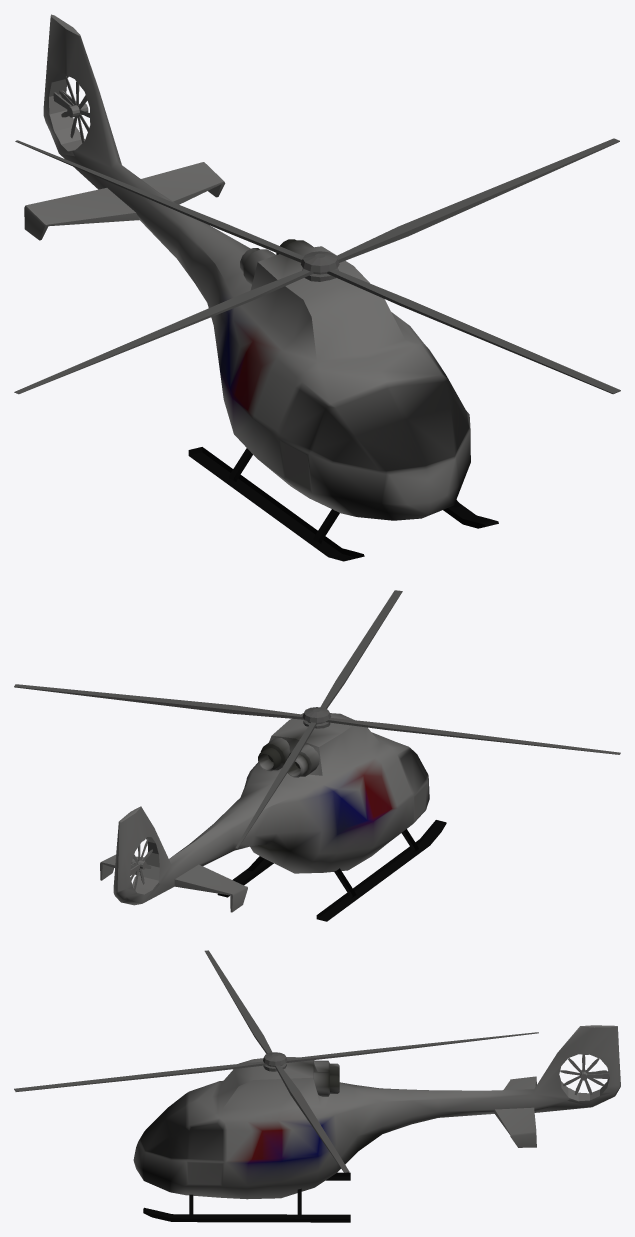
File: Lowpoly_Helicopter-transformed.glb
3 views of the same model, one above another, from view 1: azimuth 30°, elevation 25°; view 2: azimuth 150°, elevation 25°; view 3: azimuth 270°, elevation 25° (orthographic). The views are drawn at different scales.
Visible parts, largest first — view 1: Copter, Propeller_2, Legs, Cylinder; view 2: Copter, Propeller_2, Legs, Cylinder; view 3: Copter, Propeller_2, Legs, Propeller, Cylinder.
Part boxes in pixels (box(x1,y1,x2,y2)): Copter: box(24, 14, 470, 520); Propeller_2: box(14, 138, 620, 394); Legs: box(188, 447, 498, 561); Cylinder: box(49, 73, 85, 151); Copter: box(100, 713, 429, 912); Propeller_2: box(14, 590, 620, 848); Legs: box(217, 820, 446, 921); Cylinder: box(132, 837, 159, 894); Copter: box(133, 1025, 620, 1199); Propeller_2: box(14, 950, 538, 1172); Legs: box(143, 1172, 350, 1222); Propeller: box(560, 1054, 606, 1095); Cylinder: box(558, 1075, 609, 1101).
Bounding box in the file's own units: 41.72 × 15.15 × 48.23.
